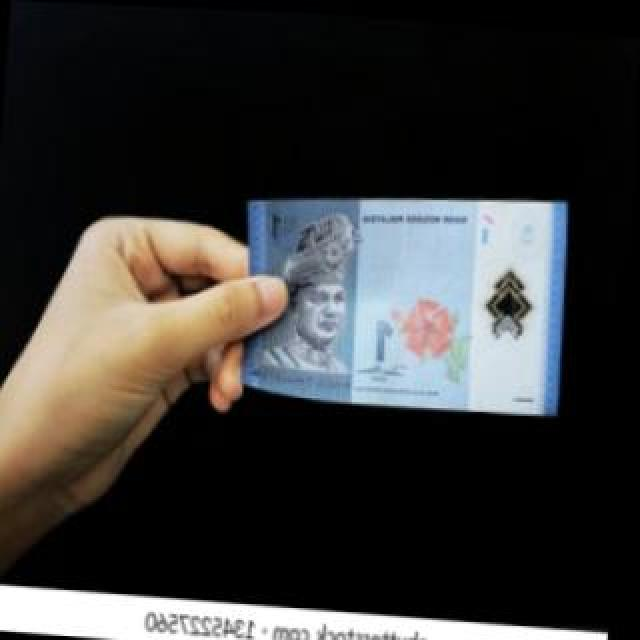1 Ringgit: (230, 164, 579, 432)
